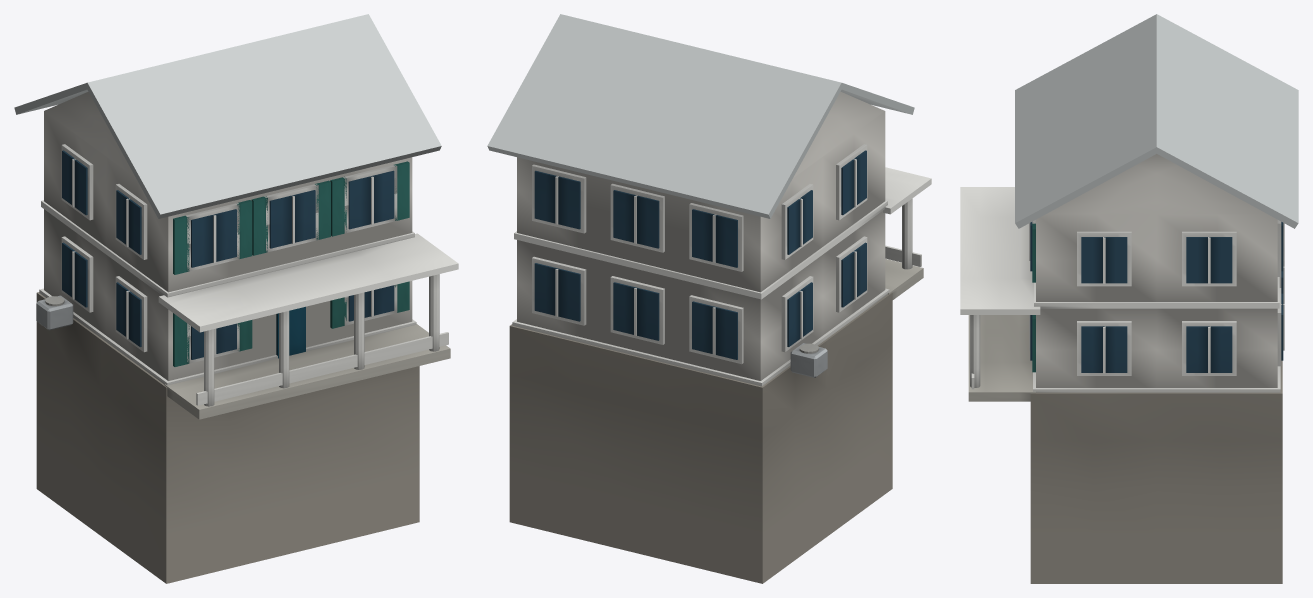
Rendered from house_twostory.glb.
3 views of the same model, side by side, from view 1: azimuth 30°, elevation 25°; view 2: azimuth 150°, elevation 25°; view 3: azimuth 270°, elevation 25° (orthographic). The views are drawn at different scales.
Parts seen in each view (by area): view 1: house_twostory; view 2: house_twostory; view 3: house_twostory.
Boxes of the visible parts, box(x1,y1,x2,y2) form: house_twostory: box(14, 14, 458, 583); house_twostory: box(487, 14, 931, 583); house_twostory: box(960, 14, 1298, 583).
Size of the model in its own units: 1.57 by 2.33 by 1.61.
